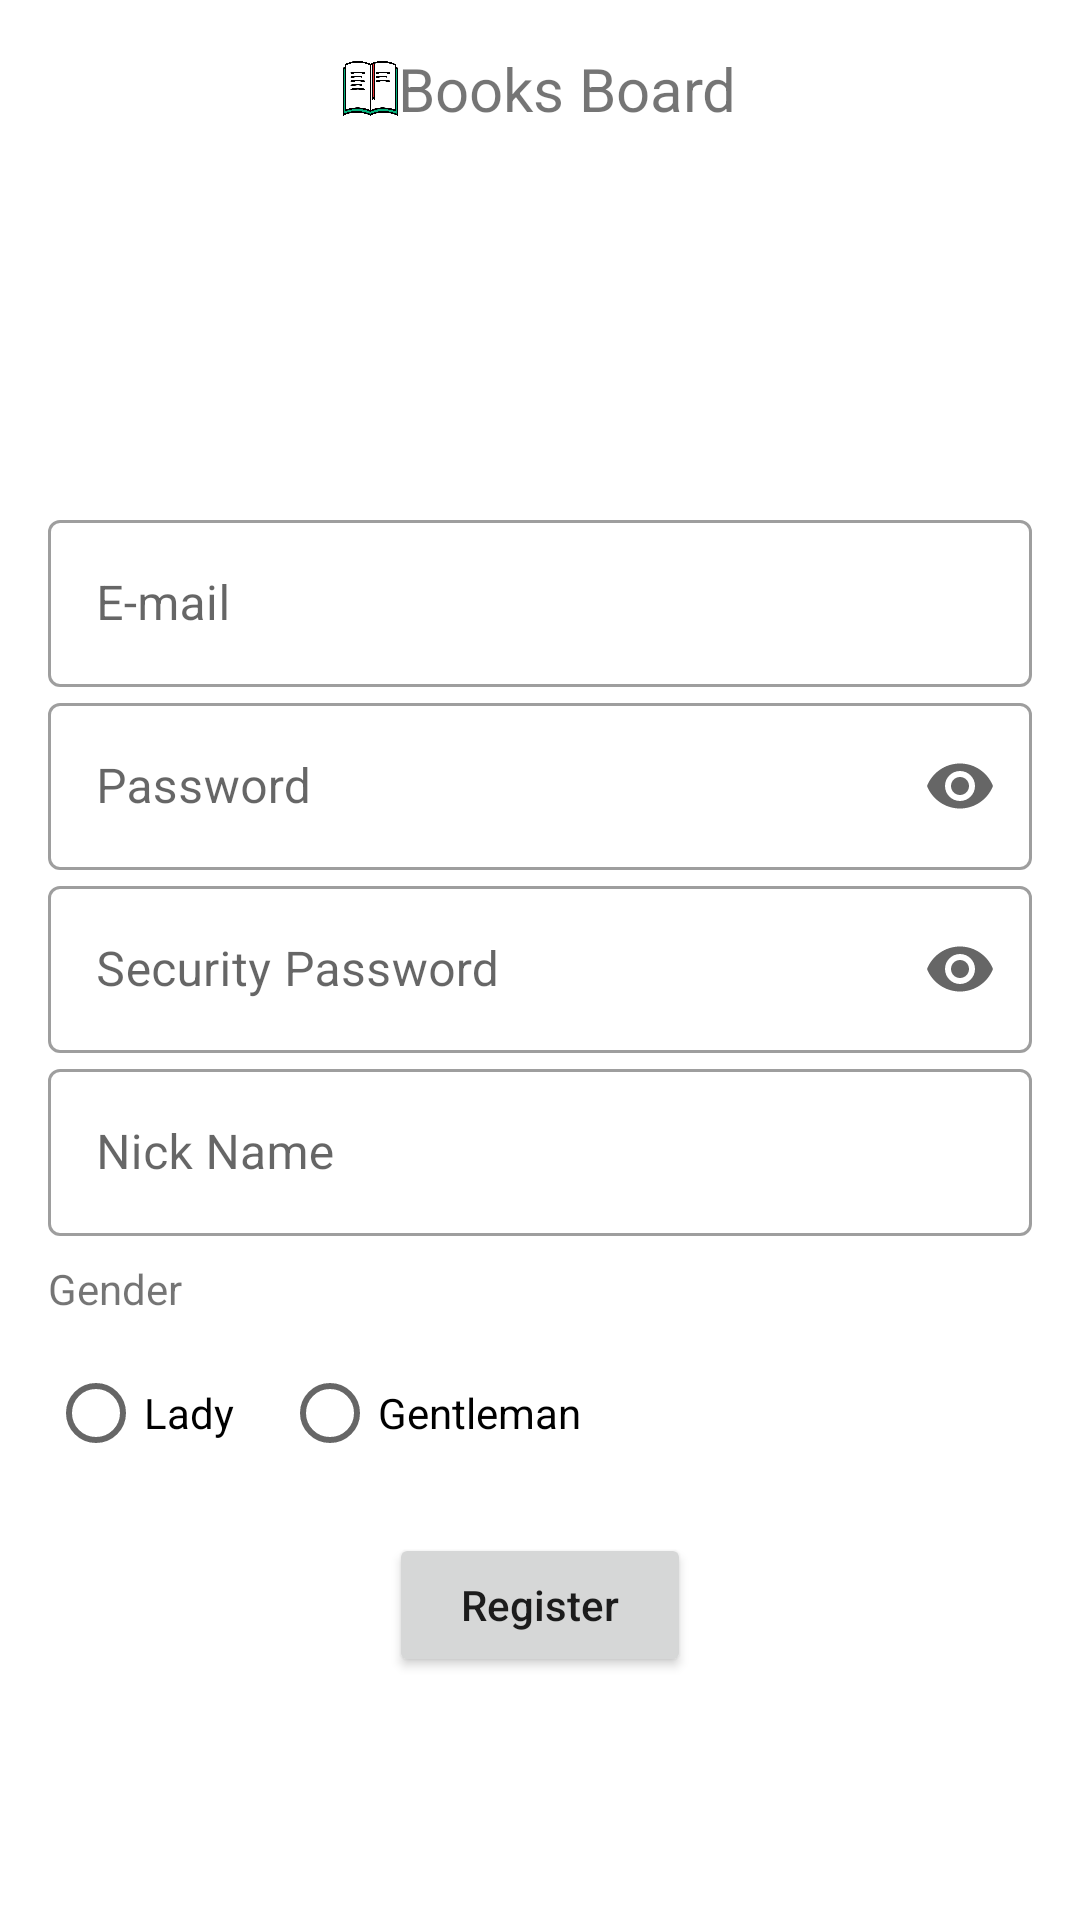

Icons on this 1080px x 1920px Android screen, each with its box as {"x1": x1, "y1": y1, "x2": x2, "y2": y2}:
App Icon: {"x1": 343, "y1": 61, "x2": 398, "y2": 116}
